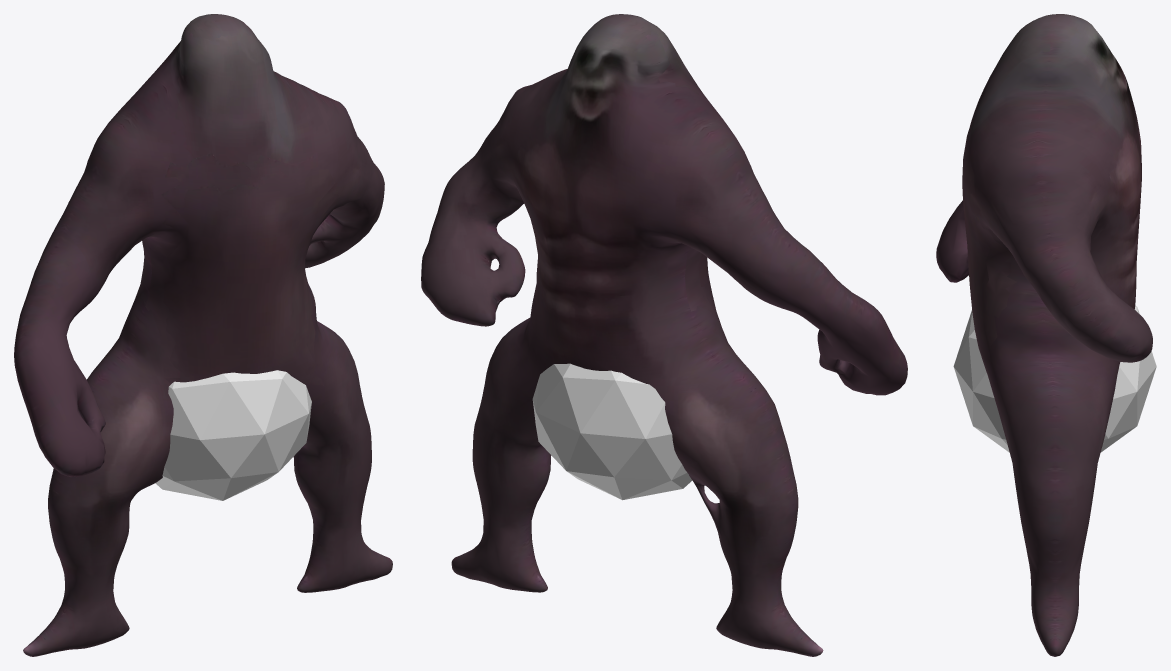
Rendered from darsh.glb.
3 views of the same model, side by side, from view 1: azimuth 30°, elevation 25°; view 2: azimuth 150°, elevation 25°; view 3: azimuth 270°, elevation 25° (orthographic). The views are drawn at different scales.
Visible parts, largest first — view 1: darsh; view 2: darsh; view 3: darsh.
Boxes of the visible parts, bbox=[...] form: darsh: bbox=[14, 14, 392, 656]; darsh: bbox=[421, 14, 907, 656]; darsh: bbox=[936, 14, 1156, 656].
Size of the model in its own units: 0.7064 by 1 by 0.3541.
1 material, 1 textured.
